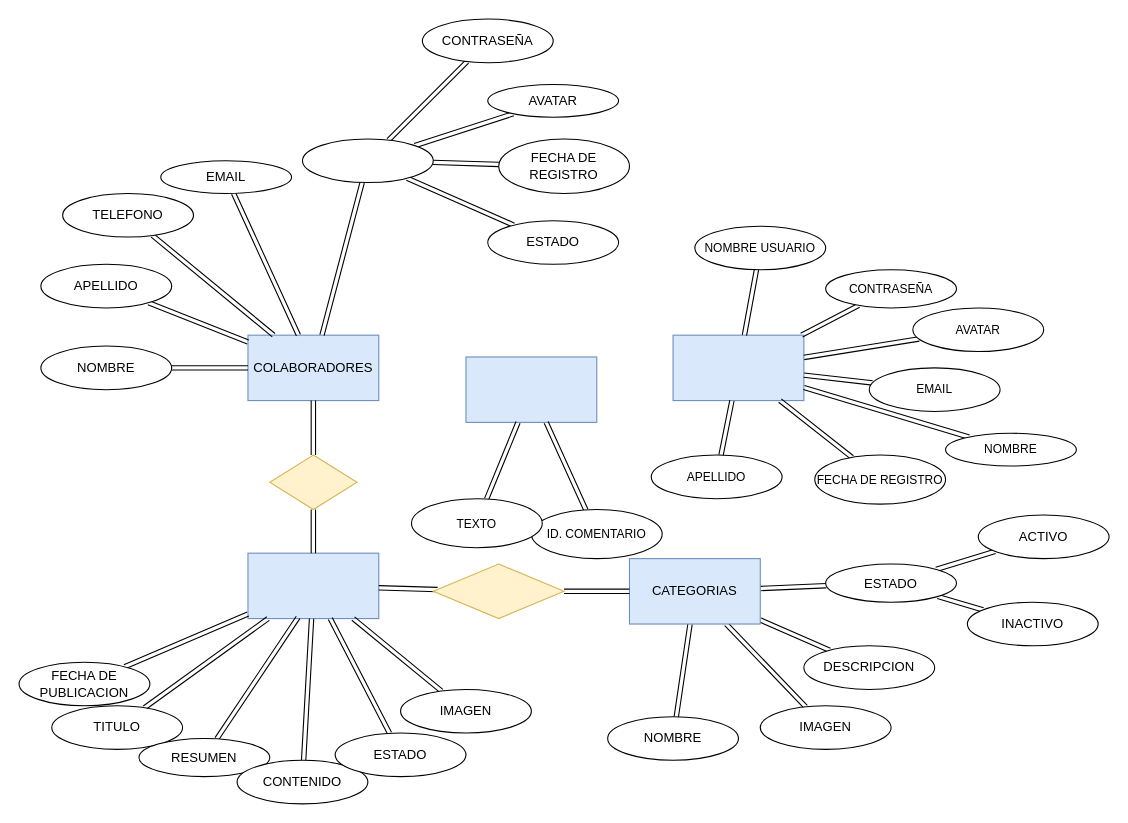
Some shapes in this 1128 by 823 pixel diagram are drawn without their labels. Here are the shapes that lost their labels. From the top down, the centre of each, then its label:
At pixel 367 160: "USUARIO".
At pixel 738 367: "USUARIOS (PUBLICO)".
At pixel 531 389: "COMENTARIO".
At pixel 313 482: "escriben".
At pixel 313 585: "ARTICULOS".
At pixel 498 591: "se dividen en".
